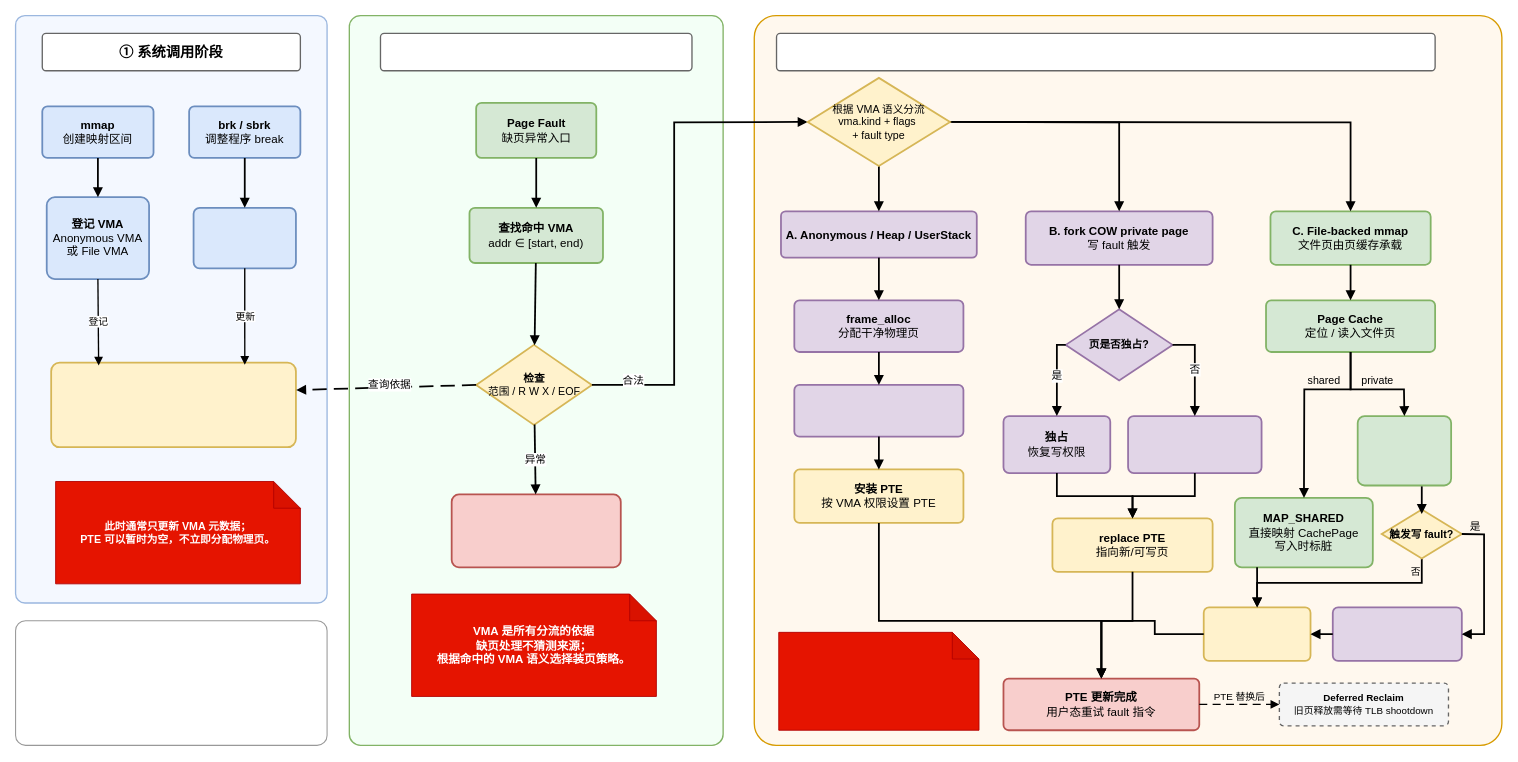
Some shapes in this 1518 by 762 pixel diagram are drawn without their labels. Here are the shapes that lost their labels. From the top down, the box of each, then its label:
(379, 32, 692, 71): ② 缺页检查阶段
(775, 32, 1435, 71): ③ 装页分流阶段
(192, 206, 296, 269): Heap VMA start_brk → brk
(50, 361, 296, 448): MemorySet / VMA 元数据 记录区间、权限、匿名/文件、shared/private、offset 等语义
(793, 384, 964, 437): PrivatePage 匿名/私有物化页
(1127, 415, 1262, 473): 共享 复制 新 PrivatePage
(1356, 415, 1452, 486): MAP_PRIVATE 读/执行：只读共享 CachePage
(450, 493, 621, 568): 错误出口 SIGSEGV / SIGBUS 越界、权限不符或文件页超过 EOF
(1202, 606, 1311, 661): 安装 / 更新 PTE
(1331, 606, 1462, 661): 复制成 PrivatePage 私有物化
(15, 620, 327, 745): 图例 VMA&PTE ：VMA元数据与页表 PrivatePage ：匿名/私有物化页 CachePage ：文件页缓存
(778, 631, 979, 730): 赖分配、COW、PageCache实现； 申请、复制、访问内存空间时 只在必要时发生复制、修改
